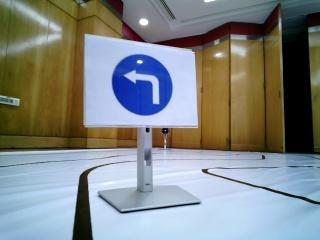left: (86, 36, 197, 129)
